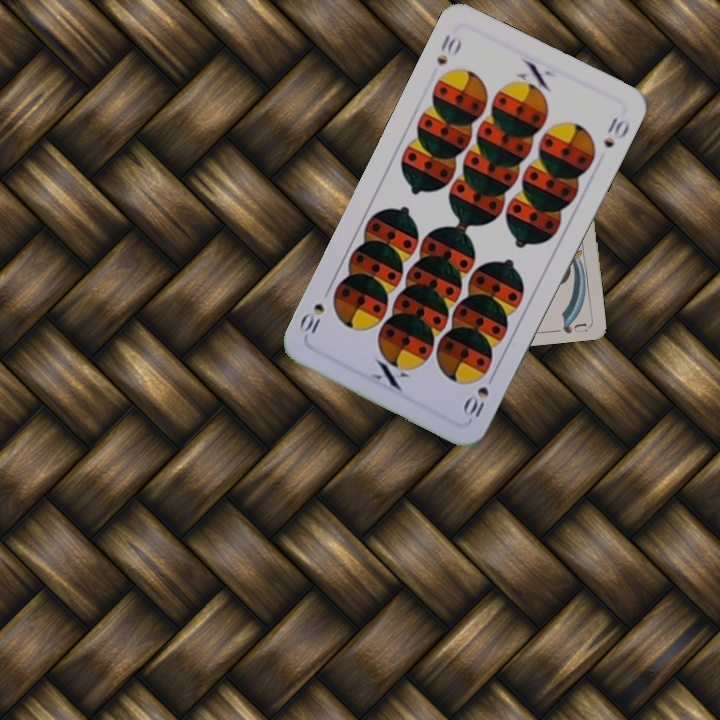S10: (460, 368, 498, 423), (432, 30, 465, 68)
